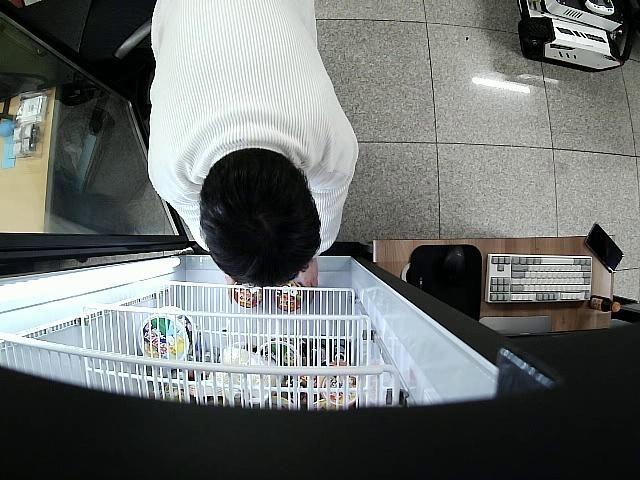06_nuguri_S: (277, 280, 304, 312)
